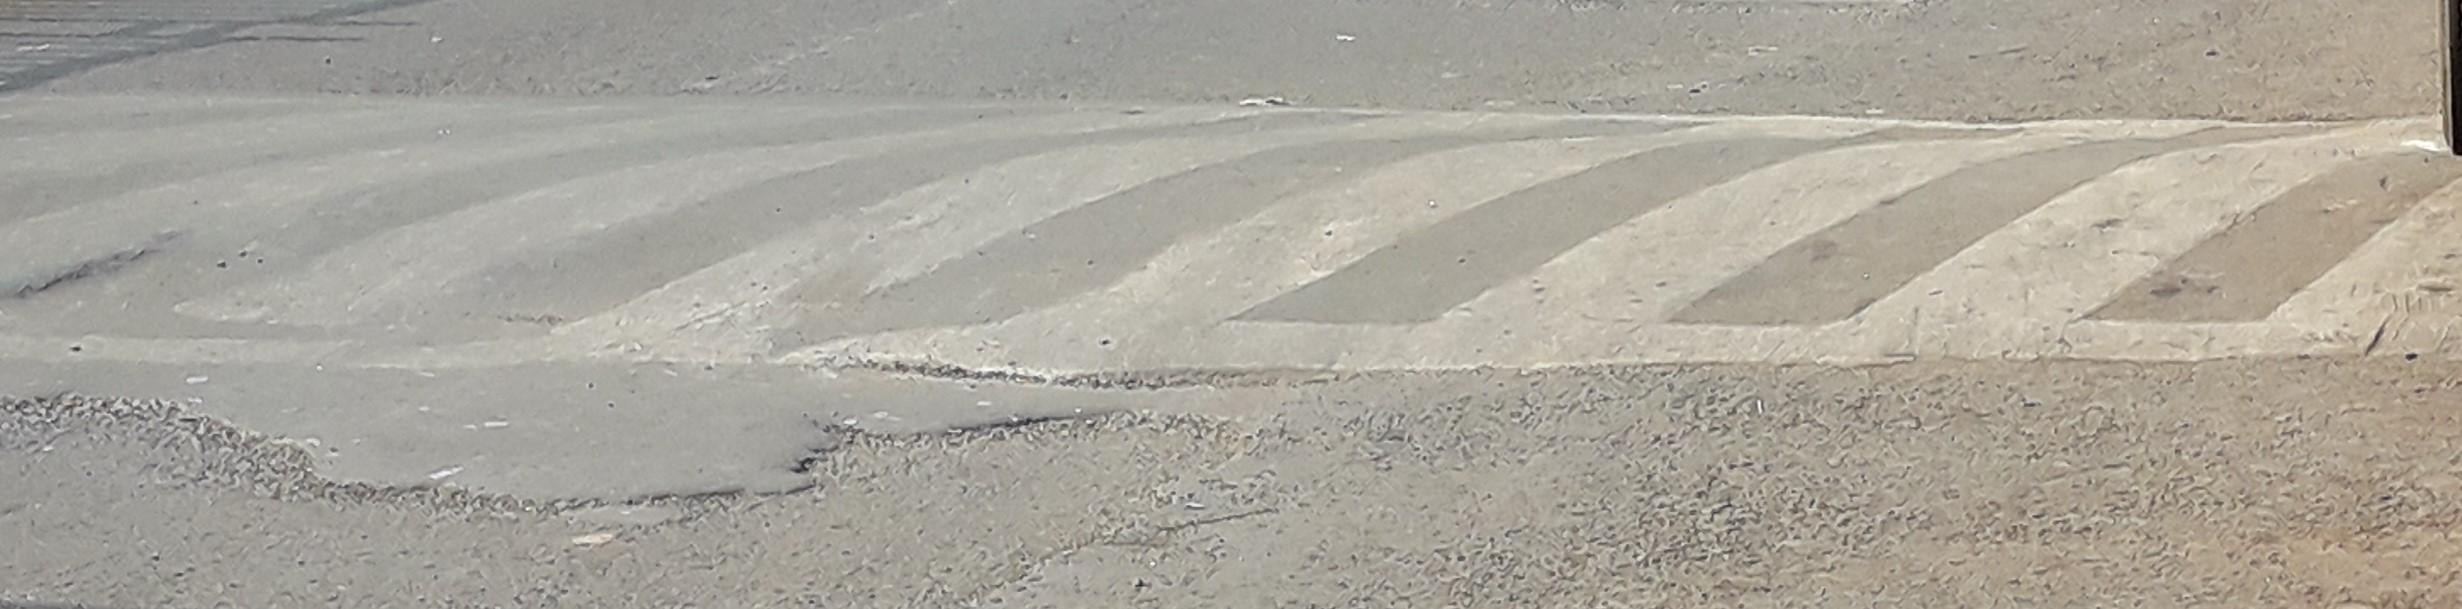speed-bump: (4, 84, 2460, 494)
